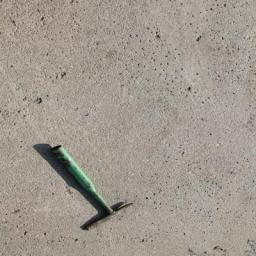FOD: (37, 144, 135, 233)
